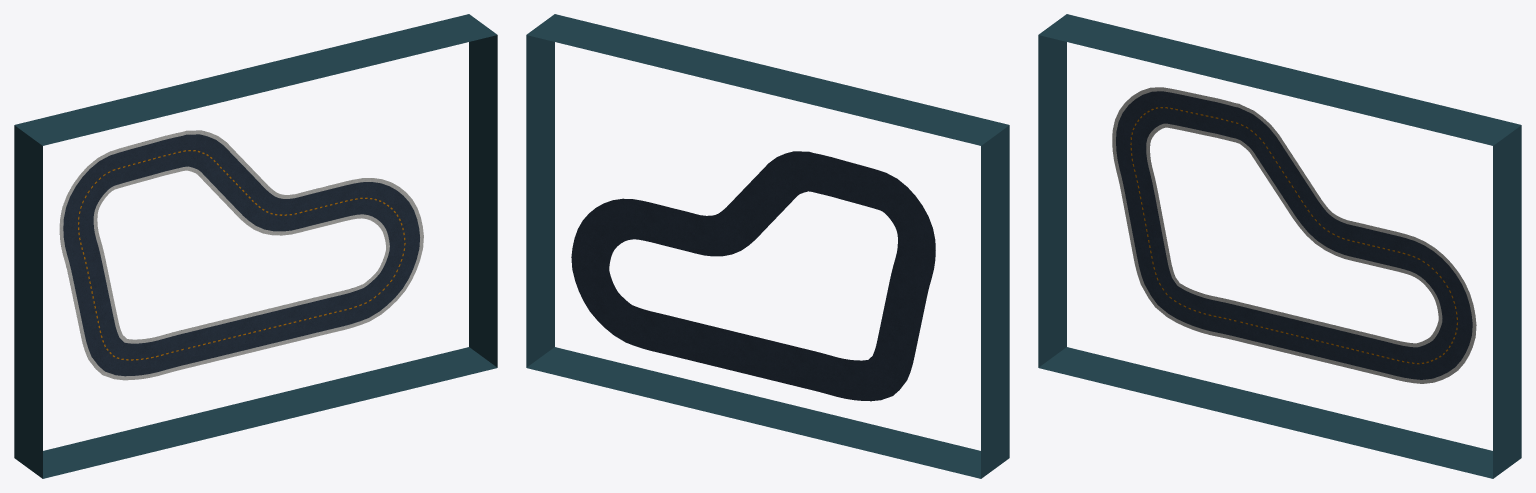
Rendered from reinvent_base.obj.
3 renders of one model, left to right at view 1: azimuth 30°, elevation 25°; view 2: azimuth 150°, elevation 25°; view 3: azimuth 330°, elevation 25°, orthographic.
Parts seen in each view (by area): view 1: wallShape-mesh-mesh, roadShape-mesh-mesh, olShape-mesh-mesh, ilShape-mesh-mesh, clShape-mesh-mesh; view 2: wallShape-mesh-mesh, roadShape-mesh-mesh; view 3: wallShape-mesh-mesh, roadShape-mesh-mesh, olShape-mesh-mesh, ilShape-mesh-mesh, clShape-mesh-mesh.
Part boxes in pixels (left/top/right/bottom): wallShape-mesh-mesh: left=14, top=14, right=497, bottom=478; roadShape-mesh-mesh: left=63, top=134, right=419, bottom=376; olShape-mesh-mesh: left=59, top=130, right=423, bottom=380; ilShape-mesh-mesh: left=93, top=166, right=389, bottom=343; clShape-mesh-mesh: left=78, top=150, right=405, bottom=360; wallShape-mesh-mesh: left=526, top=14, right=1009, bottom=478; roadShape-mesh-mesh: left=571, top=151, right=935, bottom=401; wallShape-mesh-mesh: left=1038, top=14, right=1521, bottom=478; roadShape-mesh-mesh: left=1116, top=91, right=1472, bottom=379; olShape-mesh-mesh: left=1112, top=87, right=1476, bottom=383; ilShape-mesh-mesh: left=1146, top=123, right=1442, bottom=347; clShape-mesh-mesh: left=1130, top=107, right=1457, bottom=364.
Bounding box in the file's own units: 9.16 × 6.41 × 1.
Materials: 4 (4 with a texture image).
